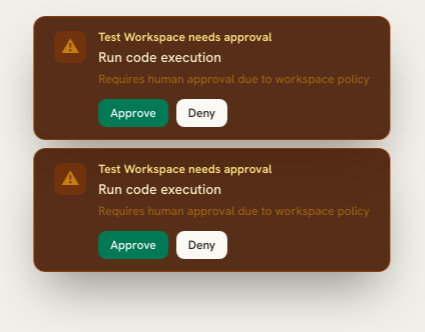
Scenario: ApprovalBanner — disabled state while submitting › disables ALL buttons globally while any submission is in flight
Step 1. Click the 1st button "Approve" → (133, 113), box [98, 99, 168, 127]
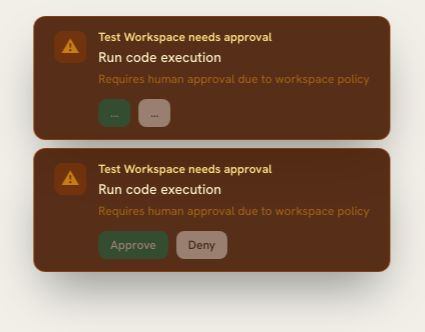
expect the button named "approve" is disabled: met, box [98, 99, 130, 127]
expect the button "Approve" is disabled: met, box [98, 231, 168, 259]
